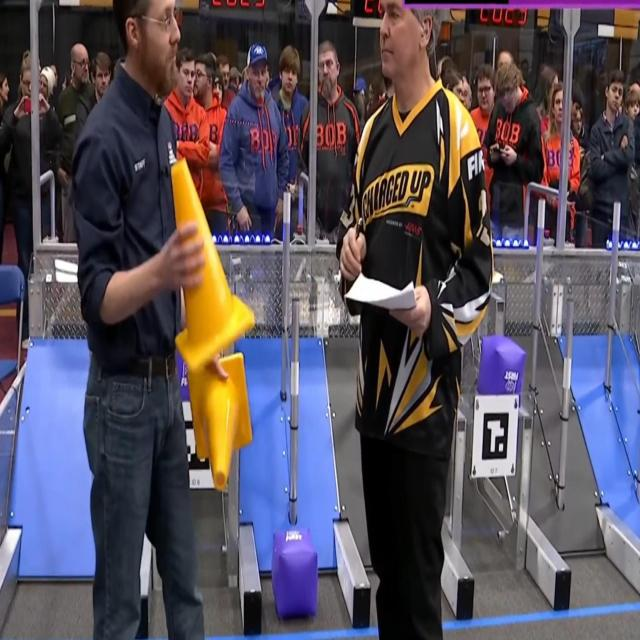frc_cone: (169, 160, 255, 372), (187, 348, 252, 493)
frc_cube: (270, 528, 318, 620), (477, 334, 524, 402)
